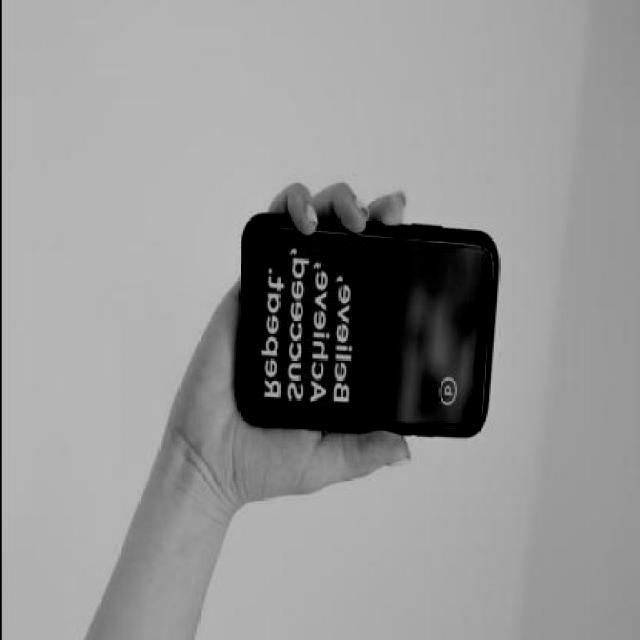fake: (242, 213, 500, 438)
